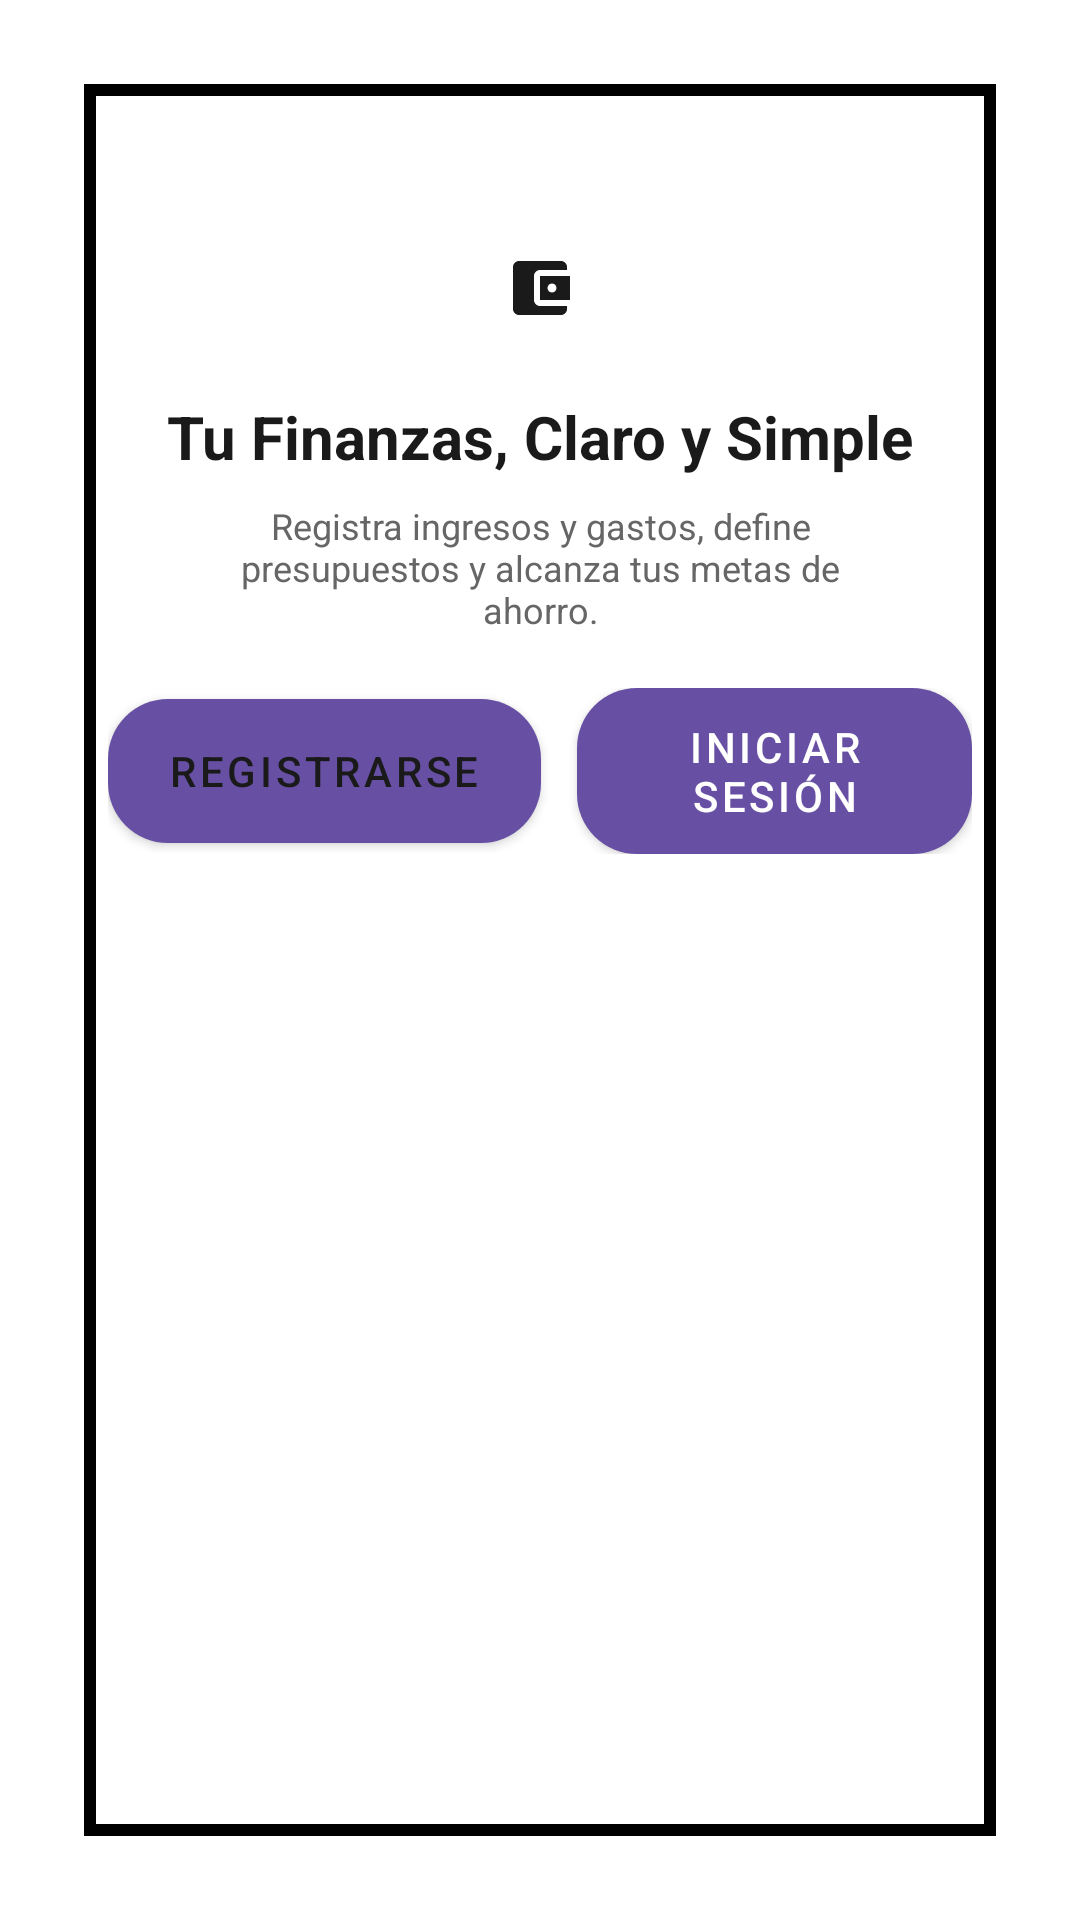

Icons on this 1080px×1920px Android screen, each with the point to tap as [x,y]:
wallet: [541,288]
